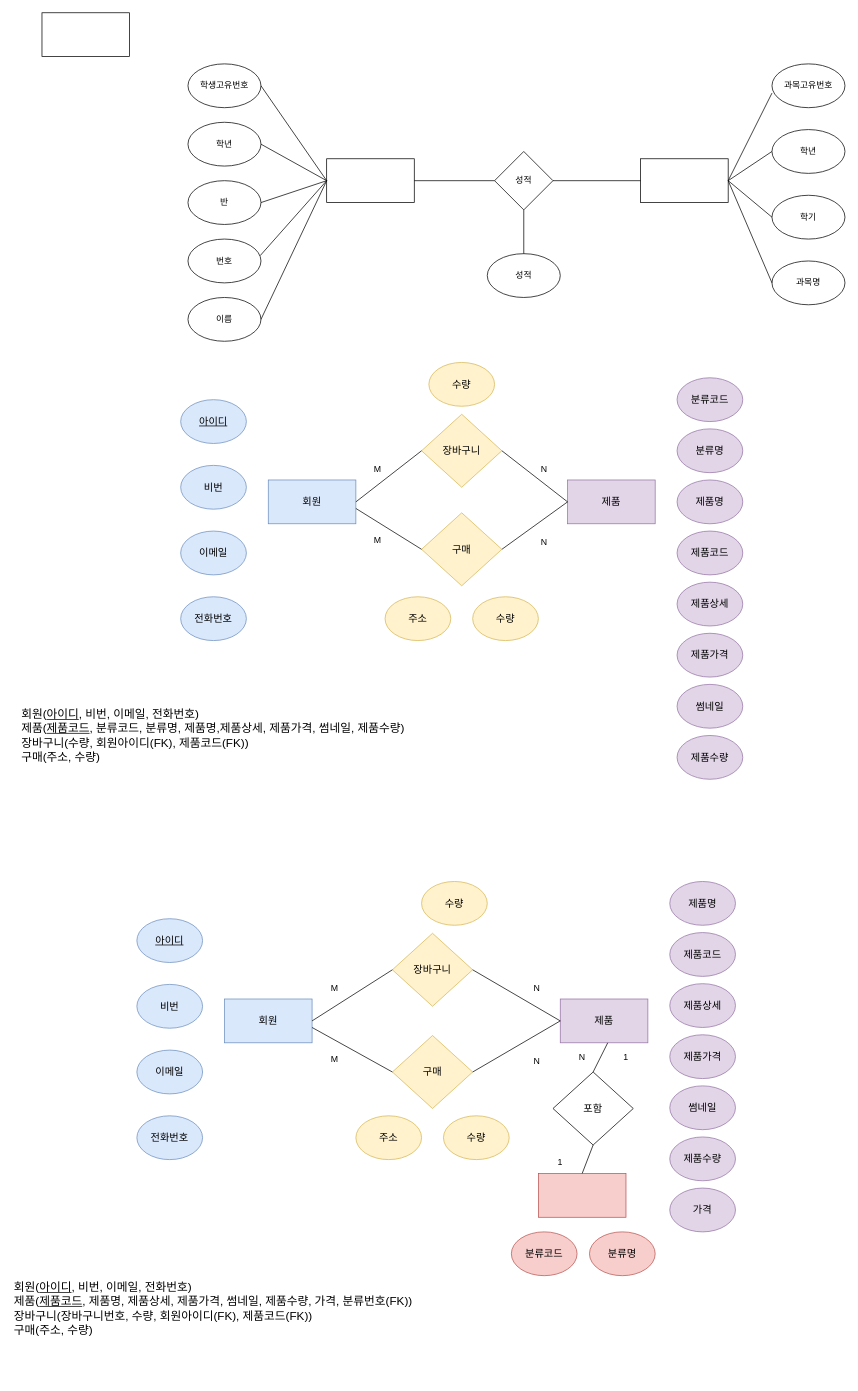
The diagram is 858 pixels wide and 1391 high, and some of its shapes have lost their labels. The box of each missing label's shape, as (x1, y1, x2, y2) in pixels:
sample DB: (41, 12, 130, 57)
과목: (640, 158, 728, 203)
분류: (538, 1173, 626, 1217)
학생: (326, 158, 414, 203)
